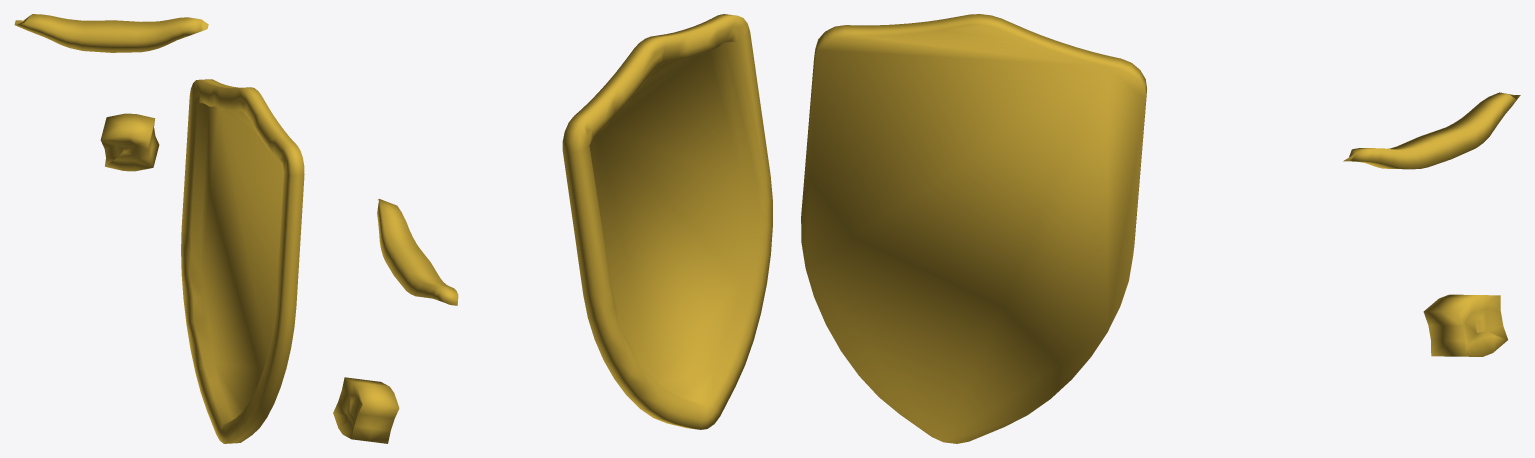
The model's file is shield.gltf.
3 renders of one model, left to right at view 1: azimuth 30°, elevation 25°; view 2: azimuth 150°, elevation 25°; view 3: azimuth 270°, elevation 25°, orthographic. The views are drawn at different scales.
Visible parts, largest first — view 1: Cube.001; view 2: Cube.001; view 3: Cube.001.
Boxes of the visible parts, bbox=[...] form: Cube.001: bbox=[14, 14, 304, 443]; Cube.001: bbox=[333, 14, 772, 443]; Cube.001: bbox=[801, 14, 1520, 443].
Bounding box in the file's own units: 1.22 × 2.78 × 4.09.
Materials: 1 (1 with a texture image).
